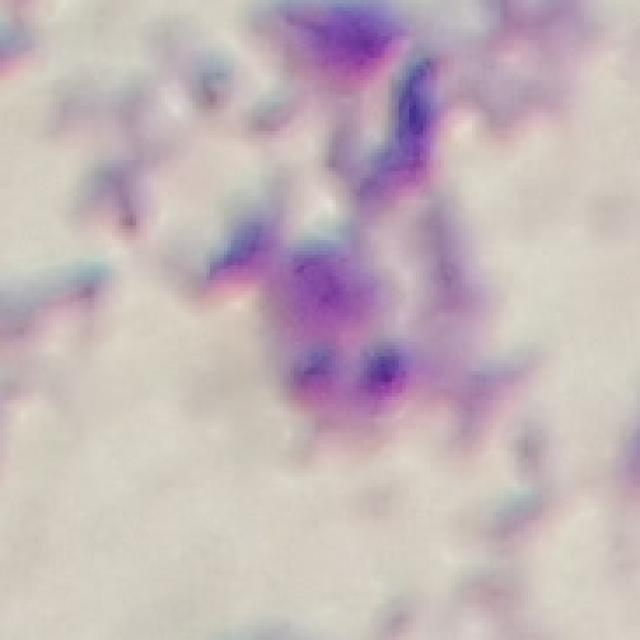non-sperm: (99, 19, 539, 460)
